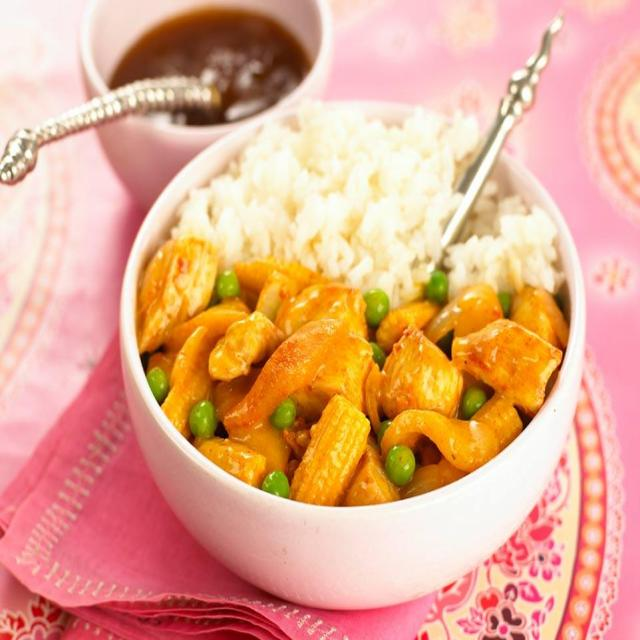chicken: (148, 256, 578, 487)
rice: (161, 118, 568, 262)
